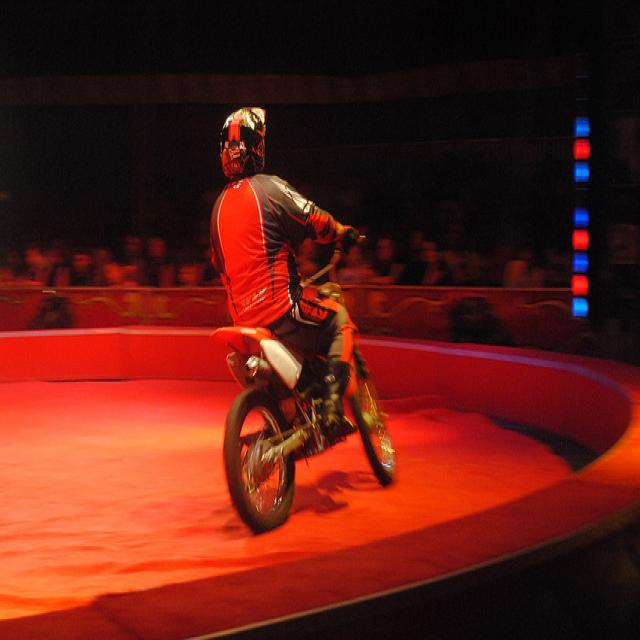motor: (209, 233, 396, 542)
